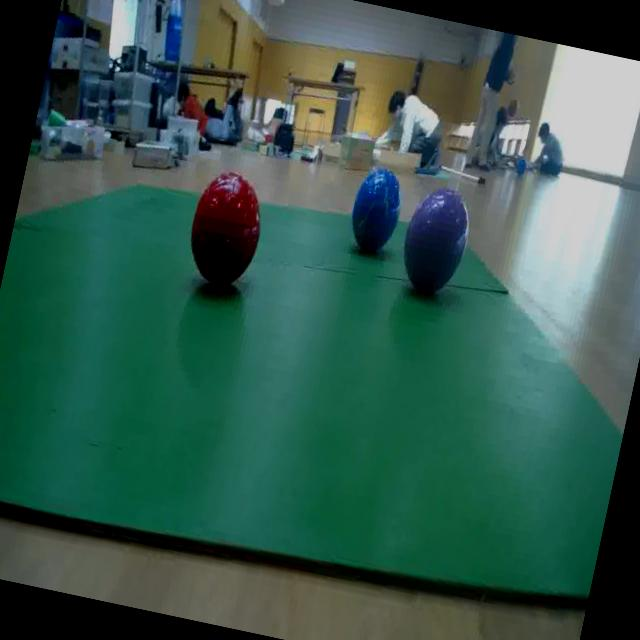blue_ball: (344, 164, 404, 266)
purple_ball: (398, 180, 476, 305)
red_ball: (187, 172, 266, 290)
